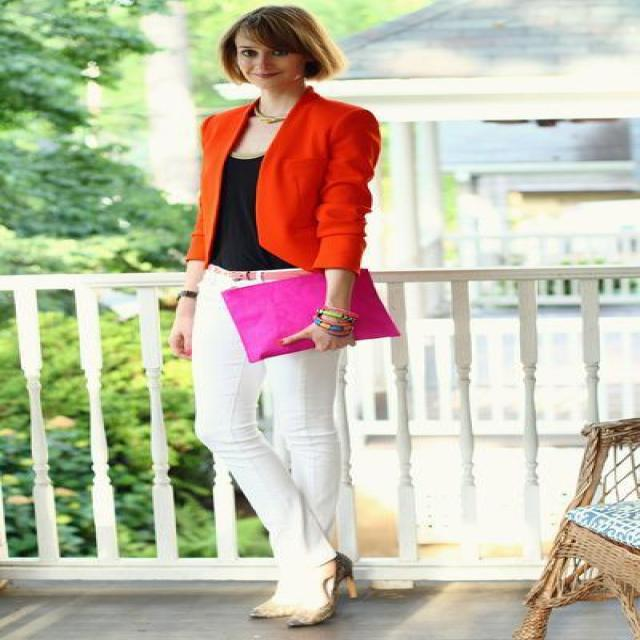bag: (222, 250, 405, 362)
jacket: (184, 90, 379, 277)
pants: (174, 296, 374, 562)
shirt: (208, 141, 286, 272)
shoe: (278, 534, 369, 616)
